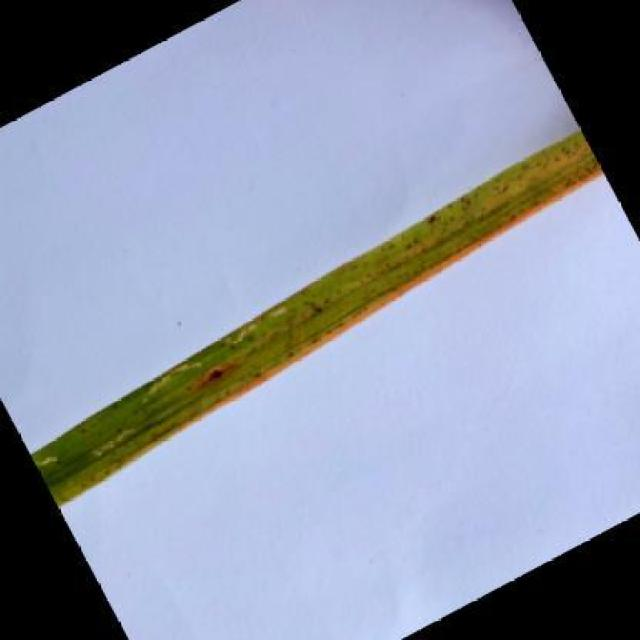Rice False Smut: (16, 127, 618, 502)
